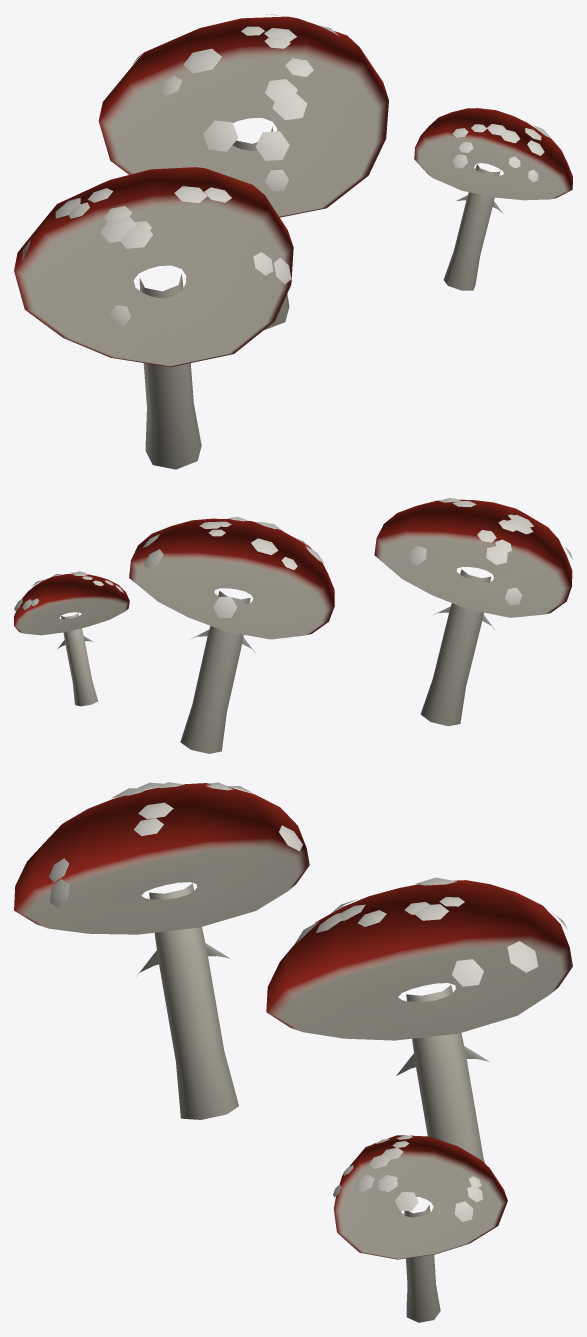
The model's file is mushroom-fly-agaric-a.lod0.glb.
3 views of the same model, one above another, from view 1: azimuth 30°, elevation 25°; view 2: azimuth 150°, elevation 25°; view 3: azimuth 270°, elevation 25° (orthographic). The views are drawn at different scales.
Visible parts, largest first — view 1: mushroom-fly-agaric-a.lod0; view 2: mushroom-fly-agaric-a.lod0; view 3: mushroom-fly-agaric-a.lod0.
Part boxes in pixels (x1,y1,x2,y2): mushroom-fly-agaric-a.lod0: (14, 14, 572, 469); mushroom-fly-agaric-a.lod0: (14, 498, 572, 753); mushroom-fly-agaric-a.lod0: (14, 782, 572, 1322).
Size of the model in its own units: 0.3499 by 0.1584 by 0.2518.
